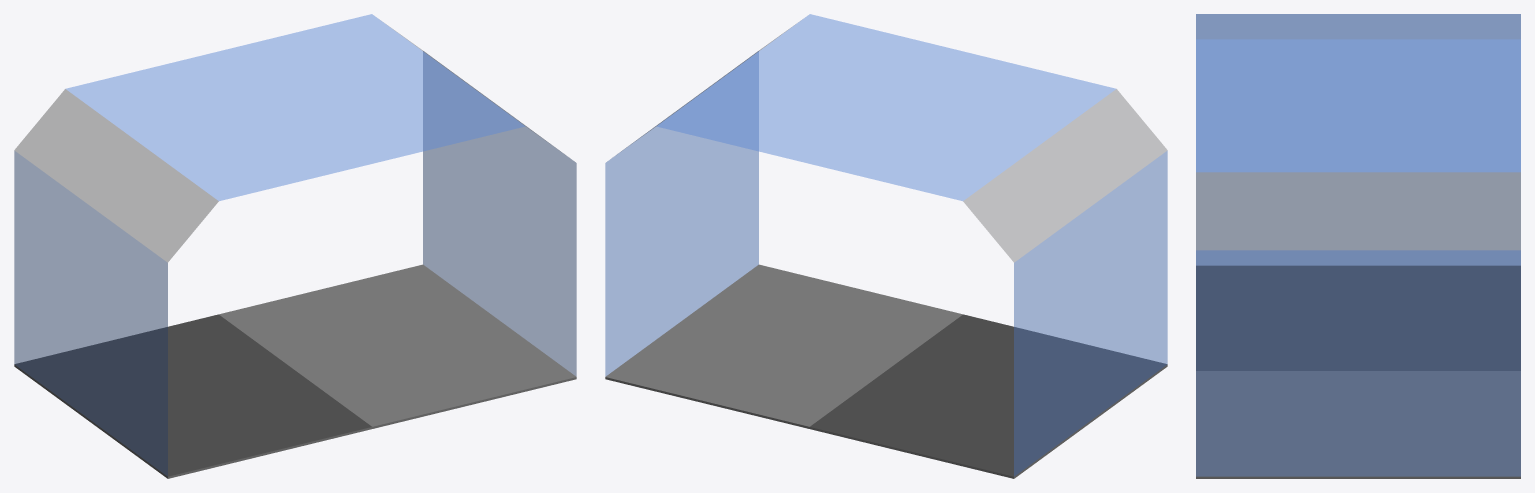
3 views of the same model, side by side, from view 1: azimuth 30°, elevation 25°; view 2: azimuth 150°, elevation 25°; view 3: azimuth 270°, elevation 25° (orthographic). The views are drawn at different scales.
Visible parts, largest first — view 1: root; view 2: root; view 3: root.
Part boxes in pixels (left/top/right/bottom): root: left=14, top=14, right=576, bottom=478; root: left=605, top=14, right=1167, bottom=478; root: left=1196, top=14, right=1520, bottom=478.
Bounding box in the file's own units: 4.88 × 3.02 × 3.17.
